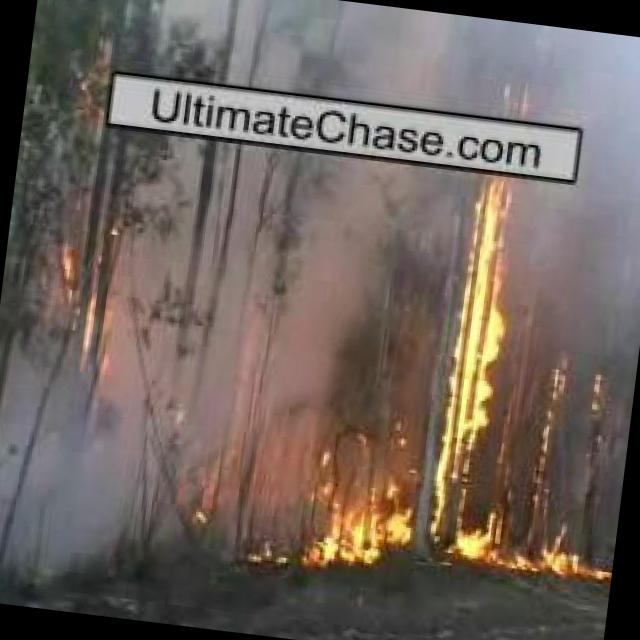Fire: (433, 166, 514, 529), (288, 444, 424, 568), (34, 228, 136, 383), (460, 529, 610, 585), (528, 358, 575, 502), (60, 34, 124, 136), (580, 377, 608, 440)
Smoke: (0, 114, 452, 622)
